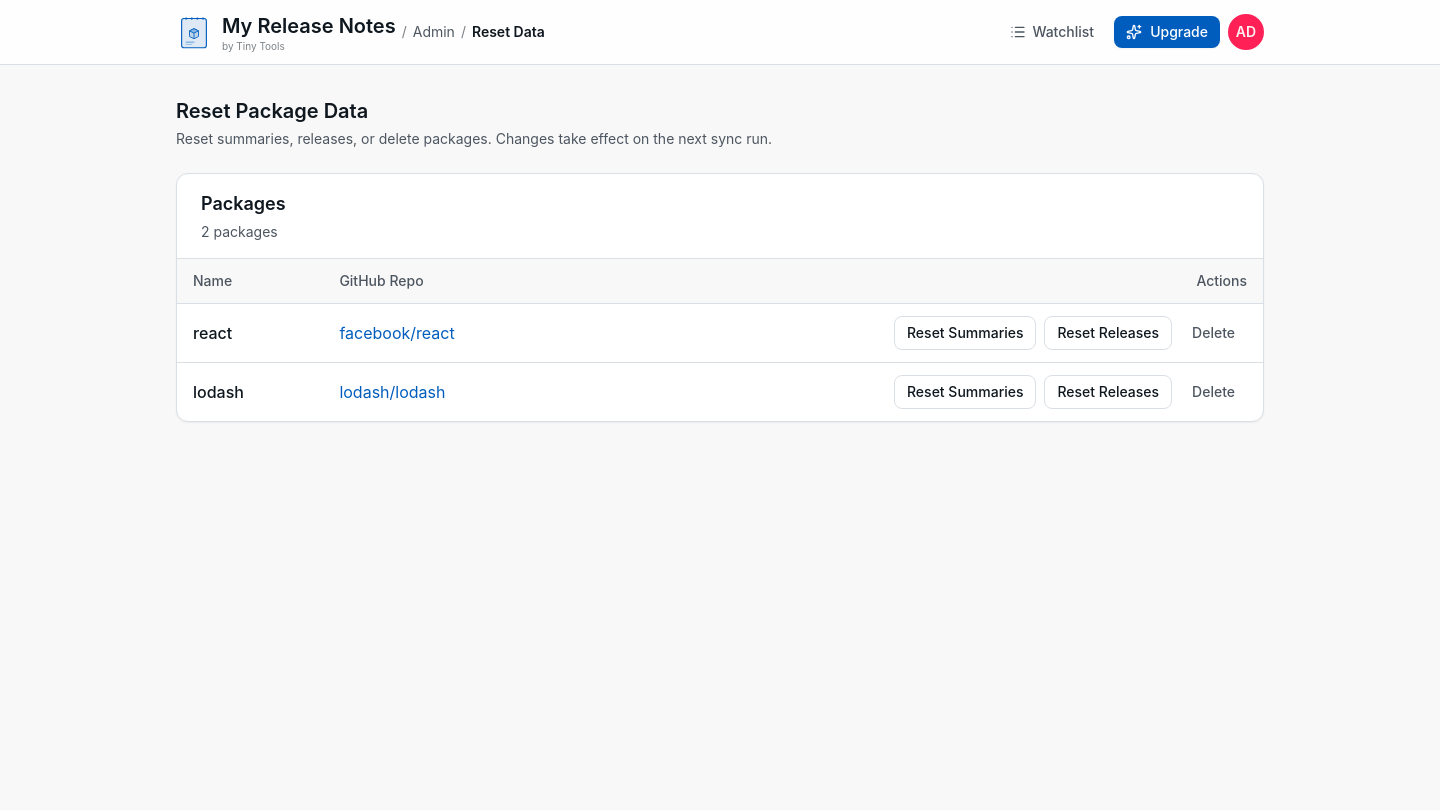
Scenario: AdminReset › when user is admin › shows confirmation modal when Reset Releases is clicked
expect the text "react" is shown: met, box left=193, top=323, right=232, bottom=343
Click the button "Reset Releases" in the row of "facebook".
click(1108, 333)  # box left=1044, top=316, right=1172, bottom=350
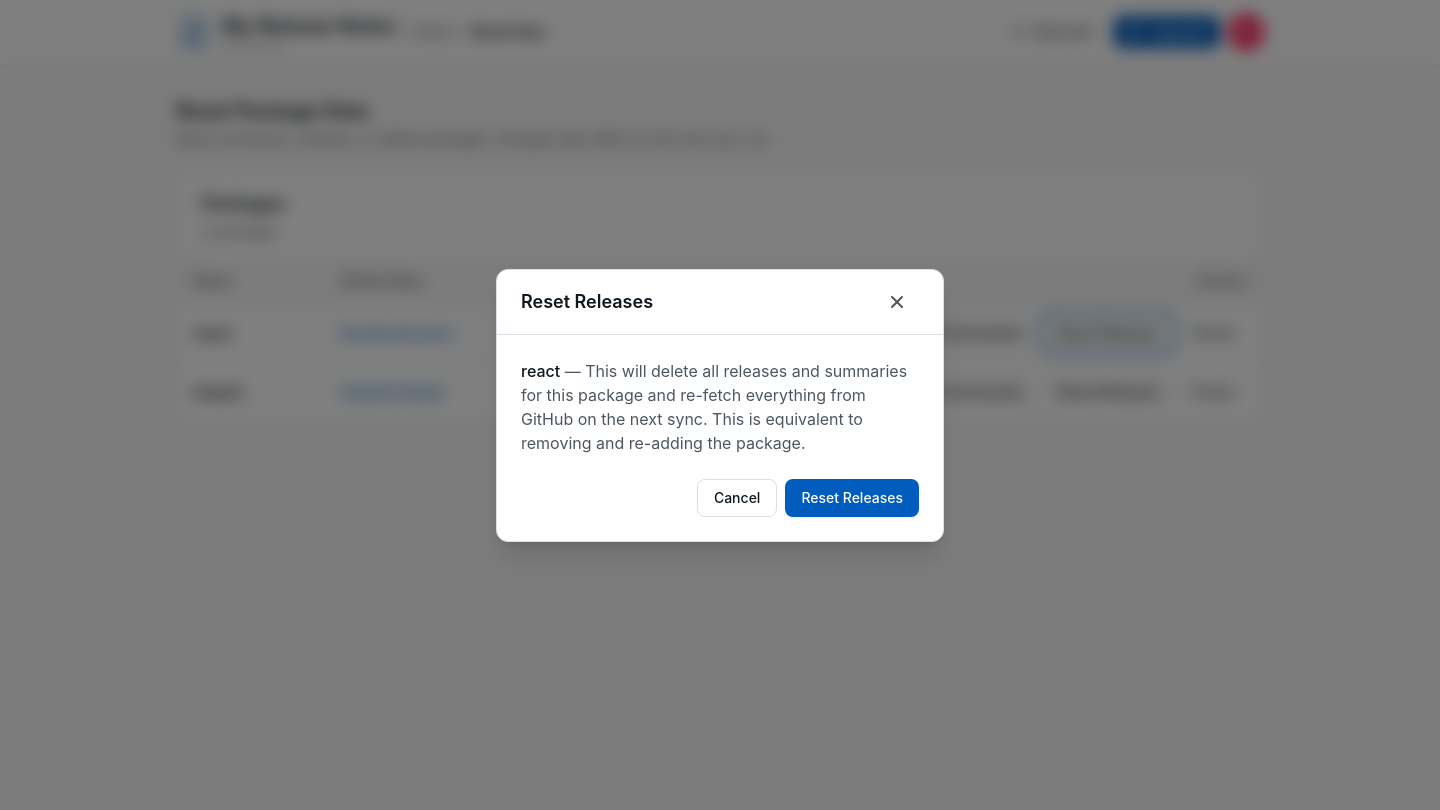
expect the text "delete all releases and summaries" is shown: met, box left=521, top=360, right=907, bottom=452
